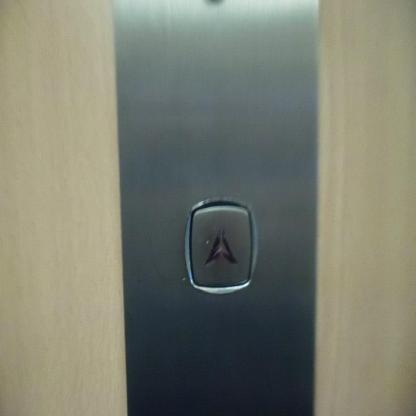up: (181, 192, 261, 297)
